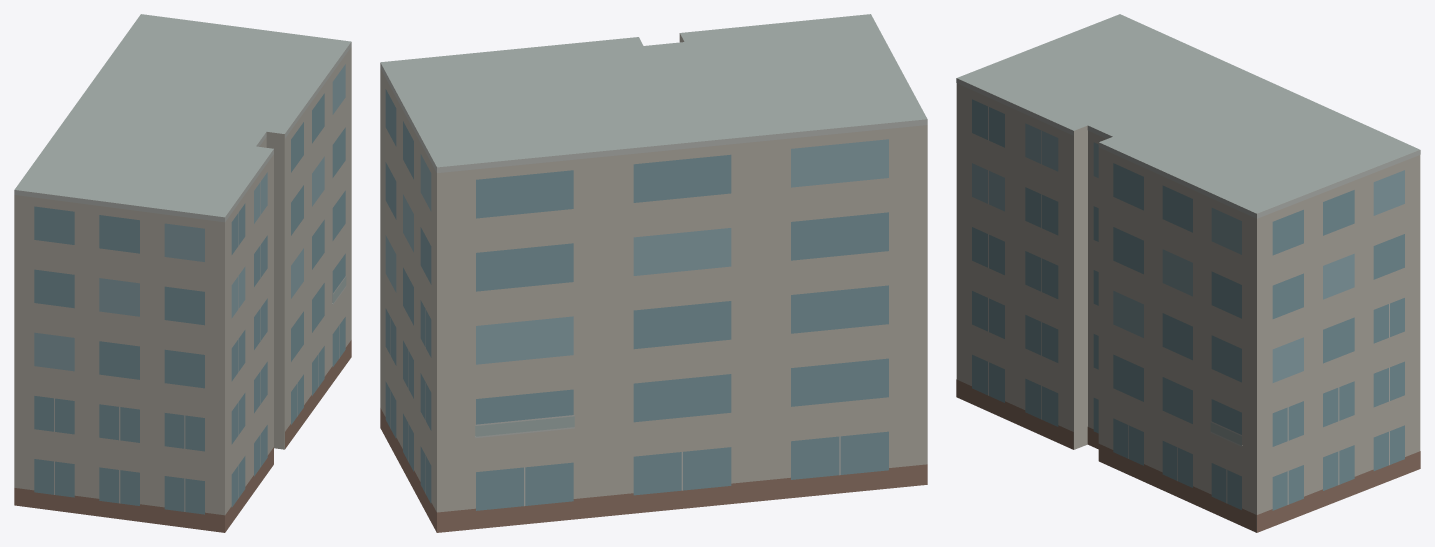
Rendered from survey-upis-32938357.glb.
3 views of the same model, side by side, from view 1: azimuth 30°, elevation 25°; view 2: azimuth 150°, elevation 25°; view 3: azimuth 270°, elevation 25° (orthographic). The views are drawn at different scales.
Visible parts, largest first — view 1: survey-upis-32938357.tmp; view 2: survey-upis-32938357.tmp; view 3: survey-upis-32938357.tmp.
Part boxes in pixels (bbox=[...]): survey-upis-32938357.tmp: bbox=[14, 14, 351, 532]; survey-upis-32938357.tmp: bbox=[380, 14, 927, 532]; survey-upis-32938357.tmp: bbox=[956, 14, 1420, 532].
Size of the model in its own units: 20.75 by 15.45 by 20.37.
